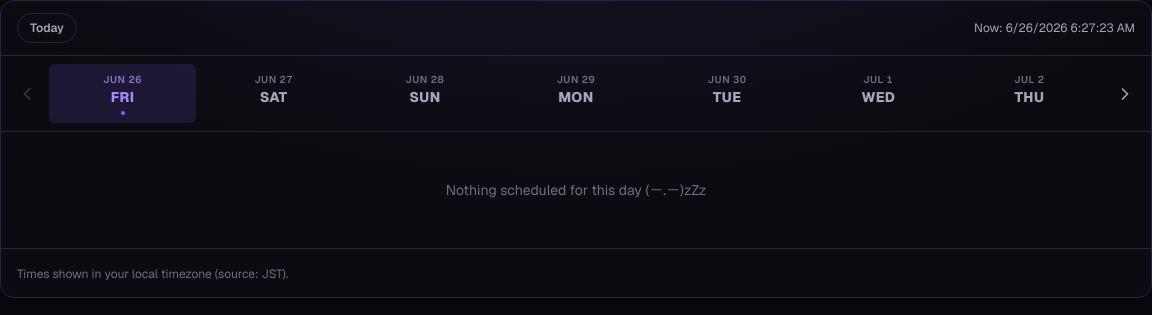
Scenario: ScheduleGrid (timeline) — show vs episode links › a row links to the show AND, separately, to that episode
The width and height of the screenshot is (1152, 315).
Click the button with test id "schedule-day-tab" at coordinates (878, 94), box 805,64 -> 952,123
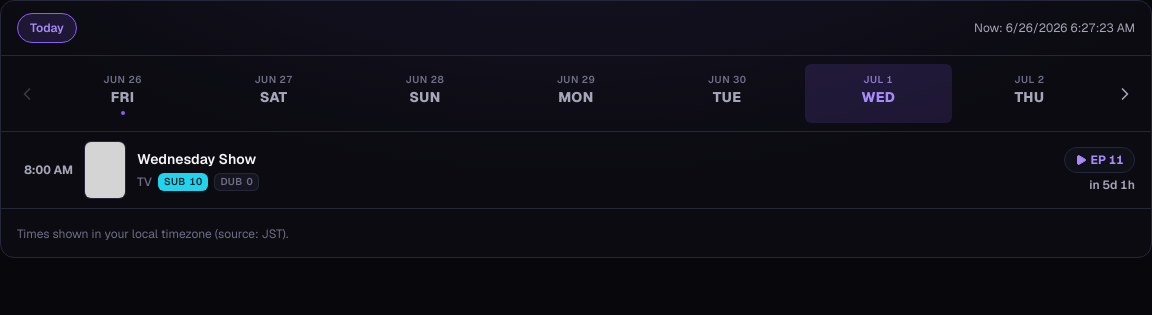
Check: the text "Wednesday Show" is shown, box 137,150 -> 256,168
Check: the element with test id "badge-sub" is shown, box 158,173 -> 208,191
Check: the link with test id "schedule-episode" reads "EP 11", box 1064,147 -> 1135,173
